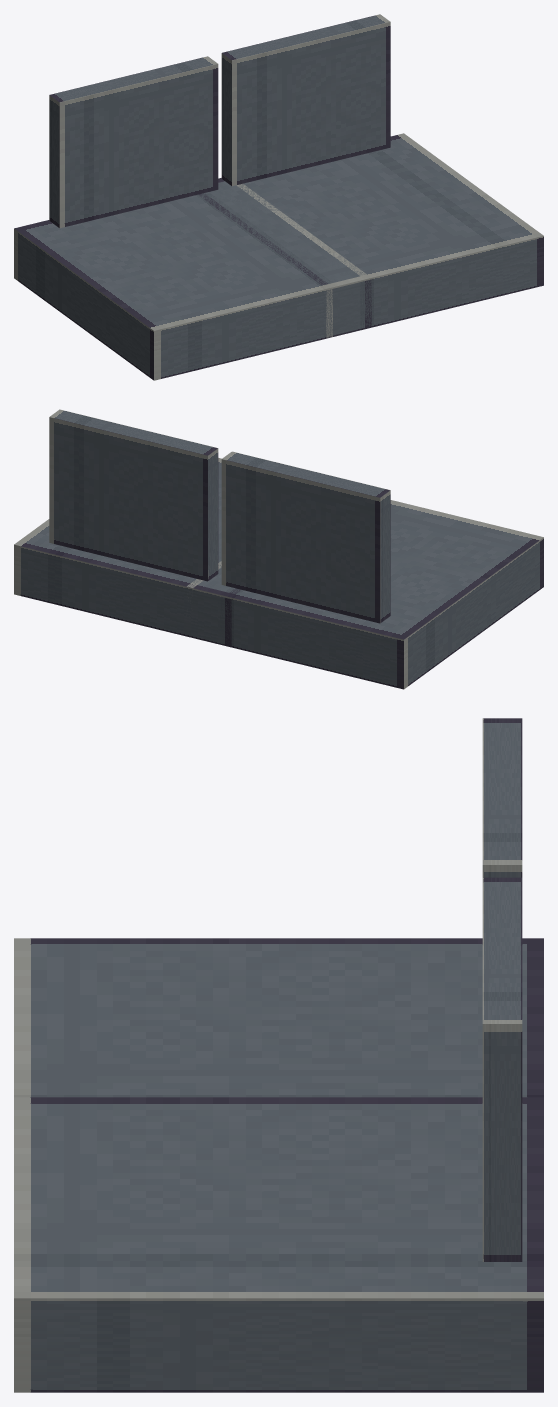
File: workpiece_xuantie_boots_tempered.obj
The picture shows the model from 3 angles, top to bottom: view 1: azimuth 30°, elevation 25°; view 2: azimuth 150°, elevation 25°; view 3: azimuth 270°, elevation 25°; orthographic projection. The views are drawn at different scales.
Parts seen in each view (by area): view 1: geometry; view 2: geometry; view 3: geometry.
Boxes of the visible parts, <box> form: geometry: <box>14,14,543,380</box>; geometry: <box>14,409,543,689</box>; geometry: <box>14,718,543,1392</box>.
Bounding box in the file's own units: 0.5375 × 0.2375 × 0.3344.
